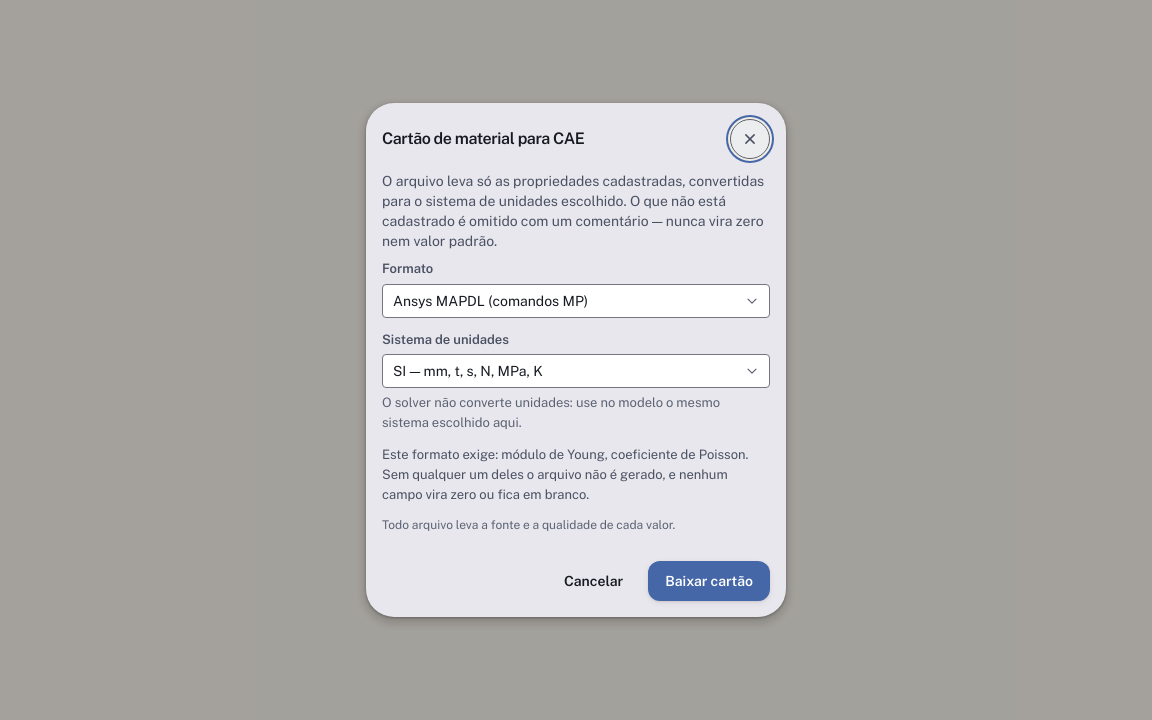
Test: CaeExportDialog (D-104) › names any other failure as an error, not a refusal
Click the button "Baixar cartão": (709, 581) [648,561,770,601]
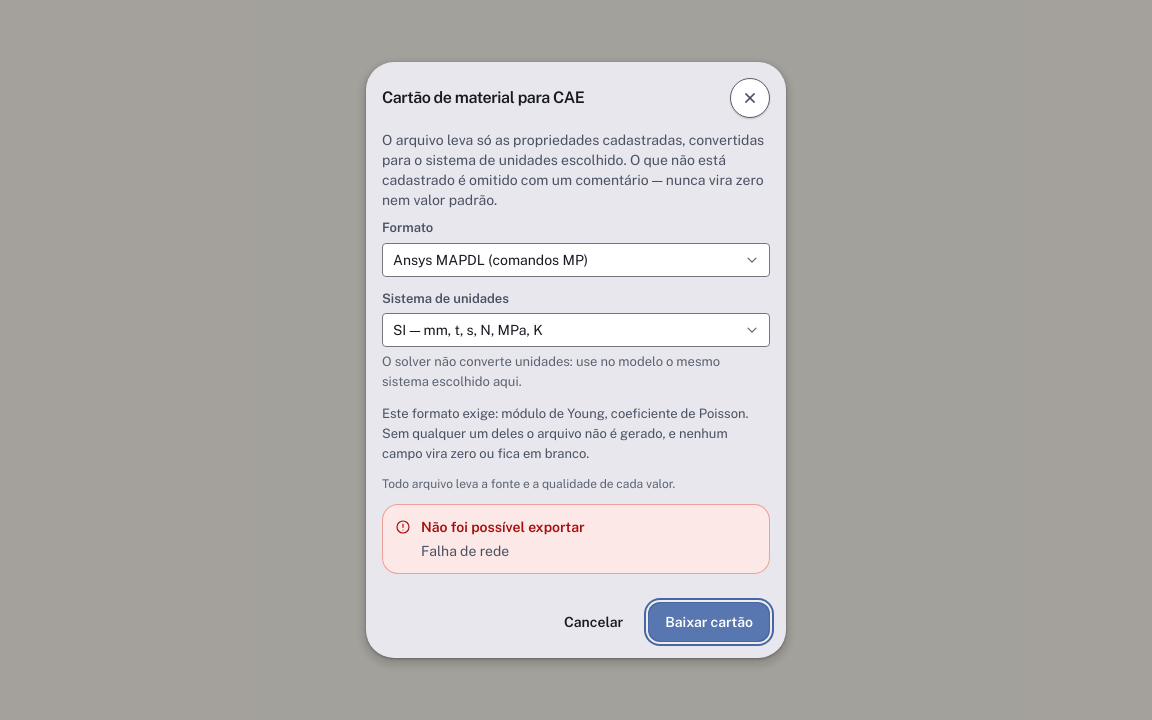
expect the message does not show "O cartão não foi gerado": met, box [382,504,770,574]
expect the message shows "Não foi possível exportar": met, box [421,519,585,535]
